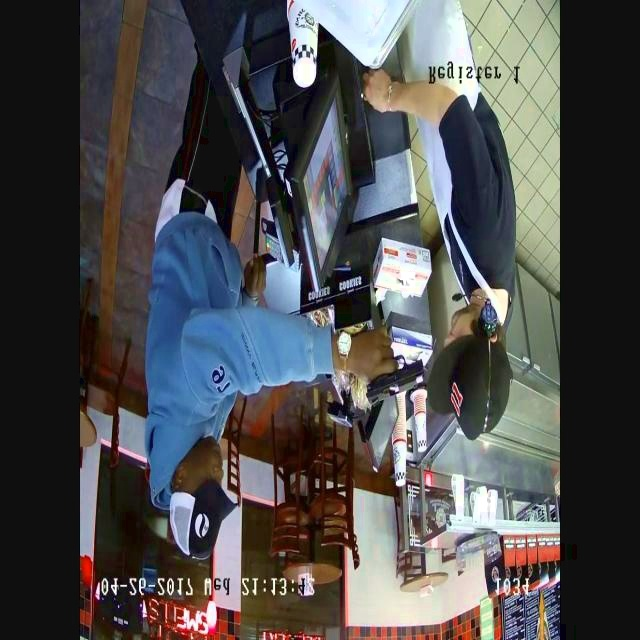gun: (356, 350, 435, 420)
